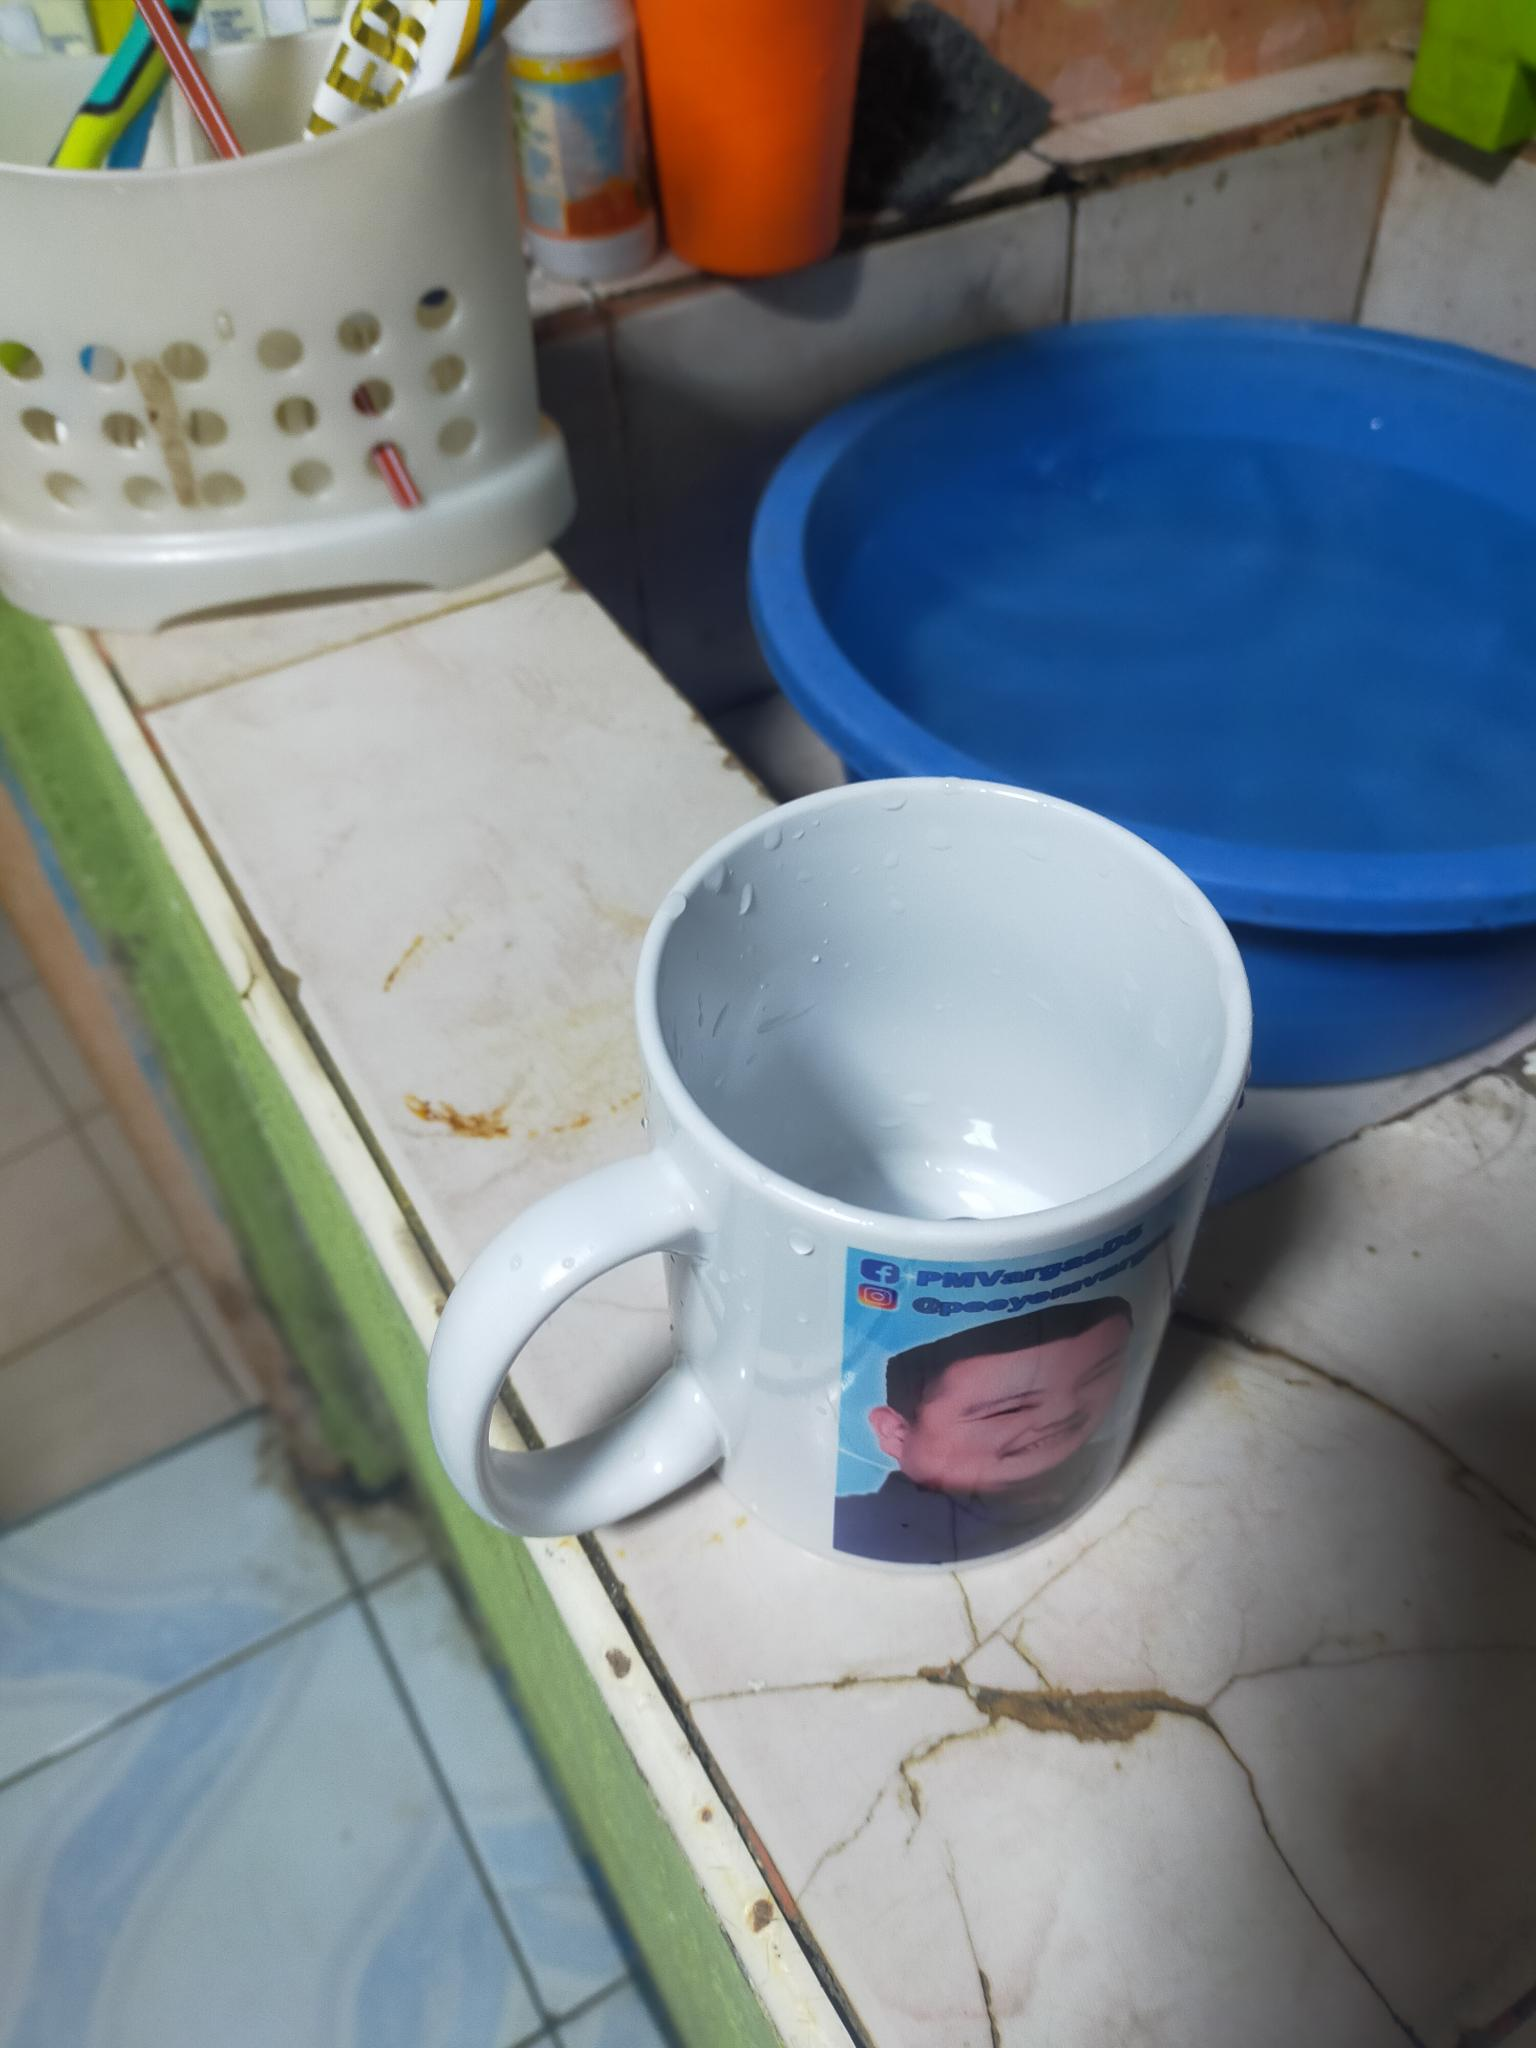Coffee Mug: (431, 779, 1257, 1559)
